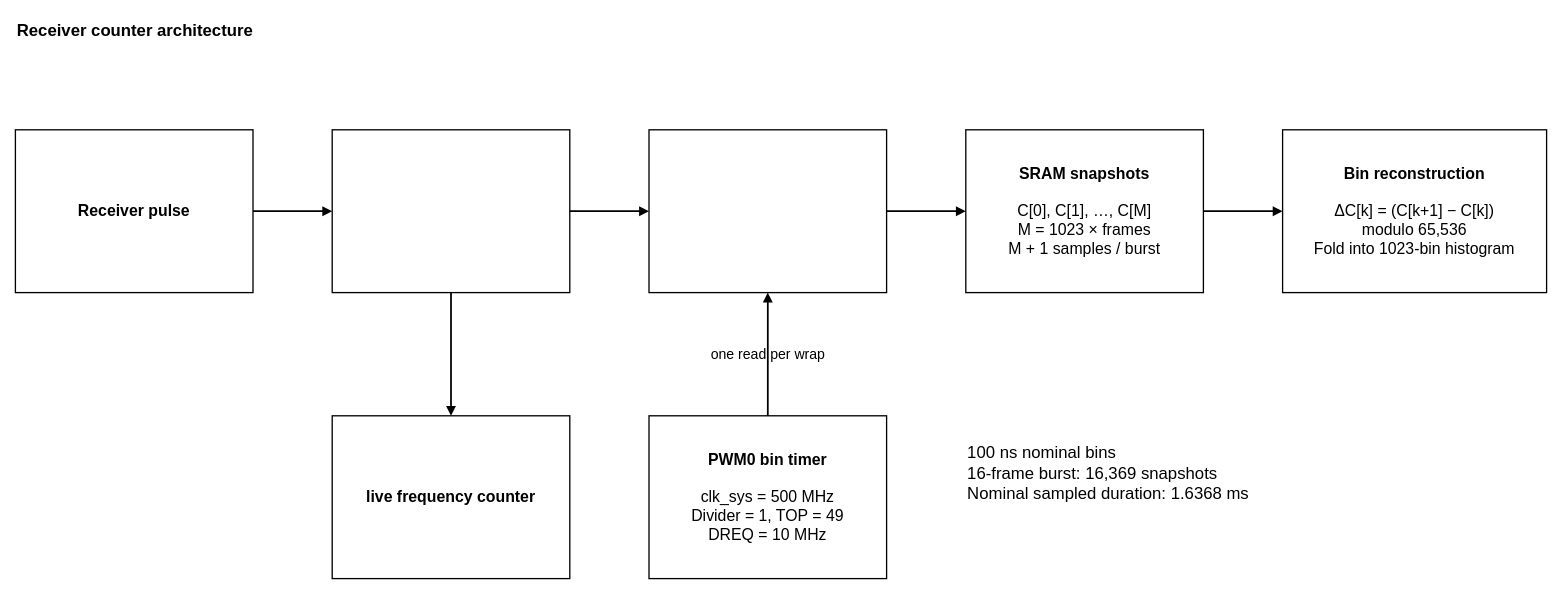
The diagram is 1563 pixels wide and 594 high, and some of its shapes have lost their labels. The shapes that lost their labels are listed below. From the top down, each one's centre as x and y in pixels, then its label:
(450,211): PWM2 counter 16-bit free-running CTR clkdiv mode: B_RISING Wrap: 65,535 -> 0
(767,211): RX DMA 32-bit CTR reads Fixed source address Incrementing destination
